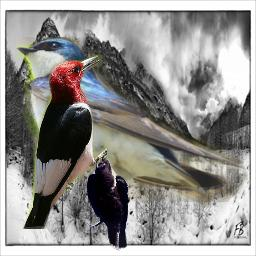Crow: (86, 156, 129, 251)
Swallow: (16, 37, 248, 210)
Woodpecker: (20, 53, 107, 229)
